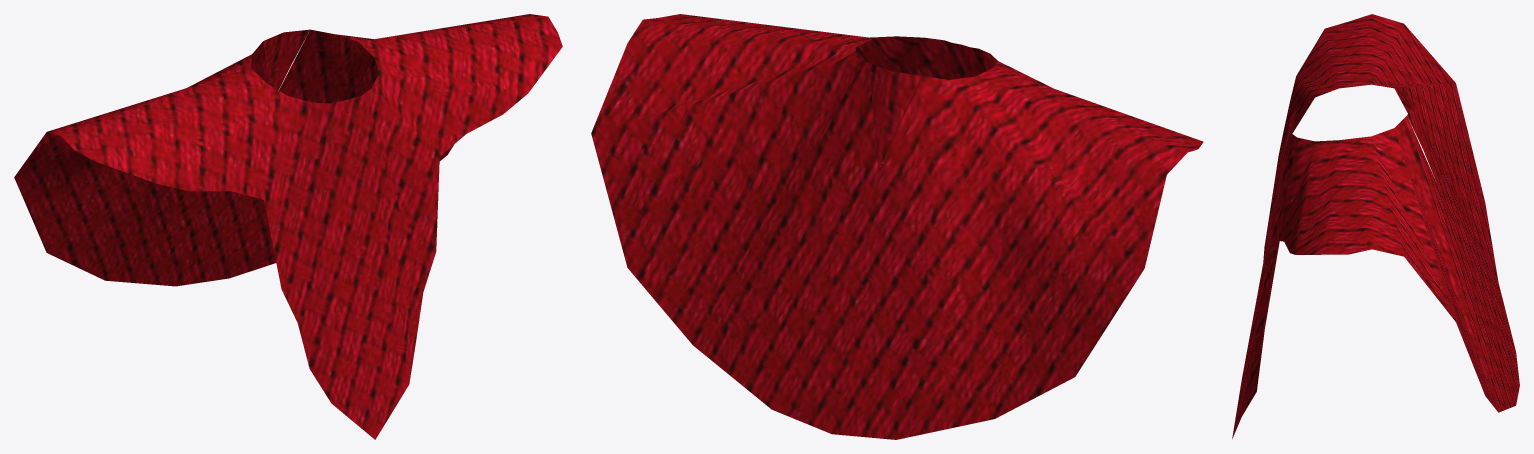
File: cloakfinally.fbx
The picture shows the model from 3 angles, left to right: view 1: azimuth 30°, elevation 25°; view 2: azimuth 150°, elevation 25°; view 3: azimuth 270°, elevation 25°; orthographic projection. The views are drawn at different scales.
Visible parts, largest first — view 1: Circle002.001; view 2: Circle002.001; view 3: Circle002.001.
Boxes of the visible parts, x1,y1,x2,y2 form: Circle002.001: (14, 14, 562, 439); Circle002.001: (591, 14, 1203, 439); Circle002.001: (1232, 14, 1519, 439).
Size of the model in its own units: 784 by 515 by 399.
